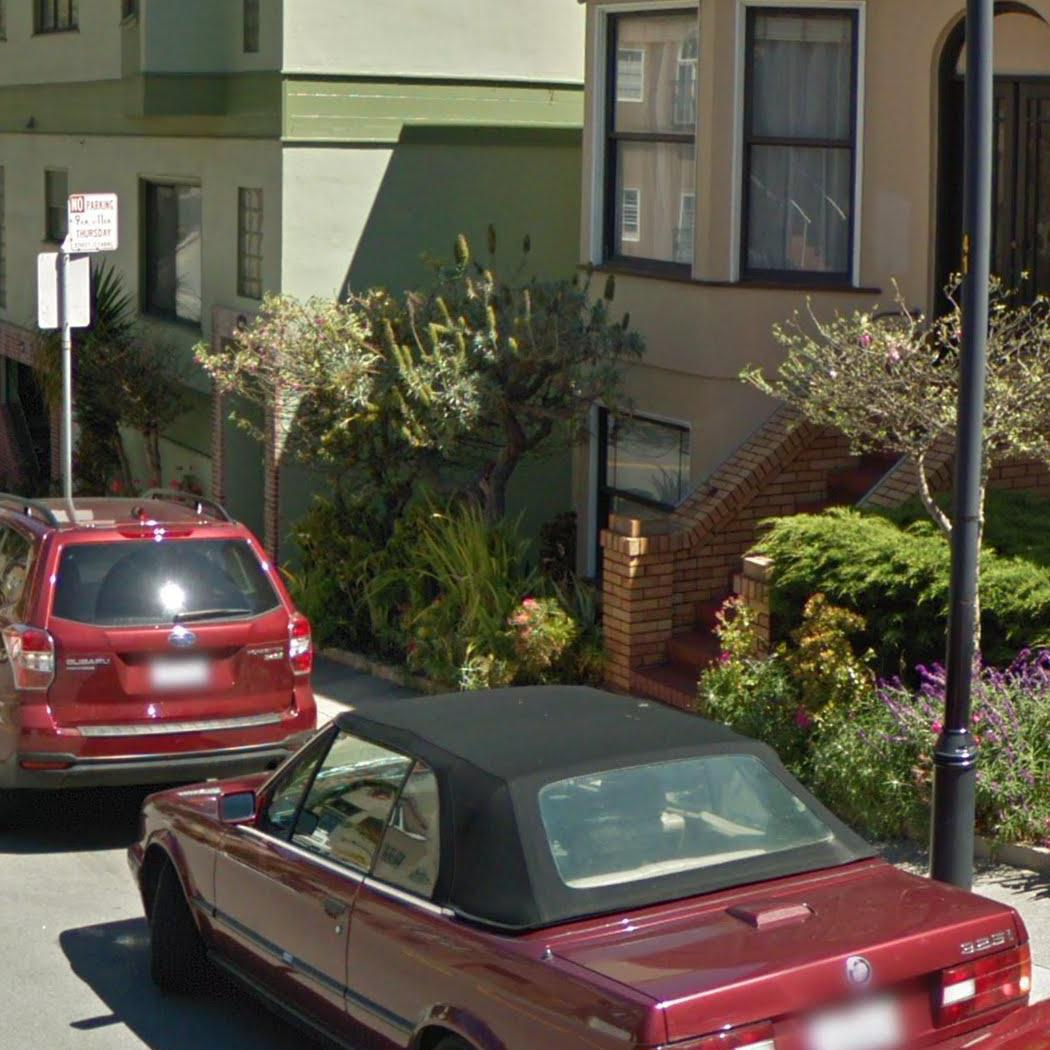No Parking: (63, 187, 123, 255)
